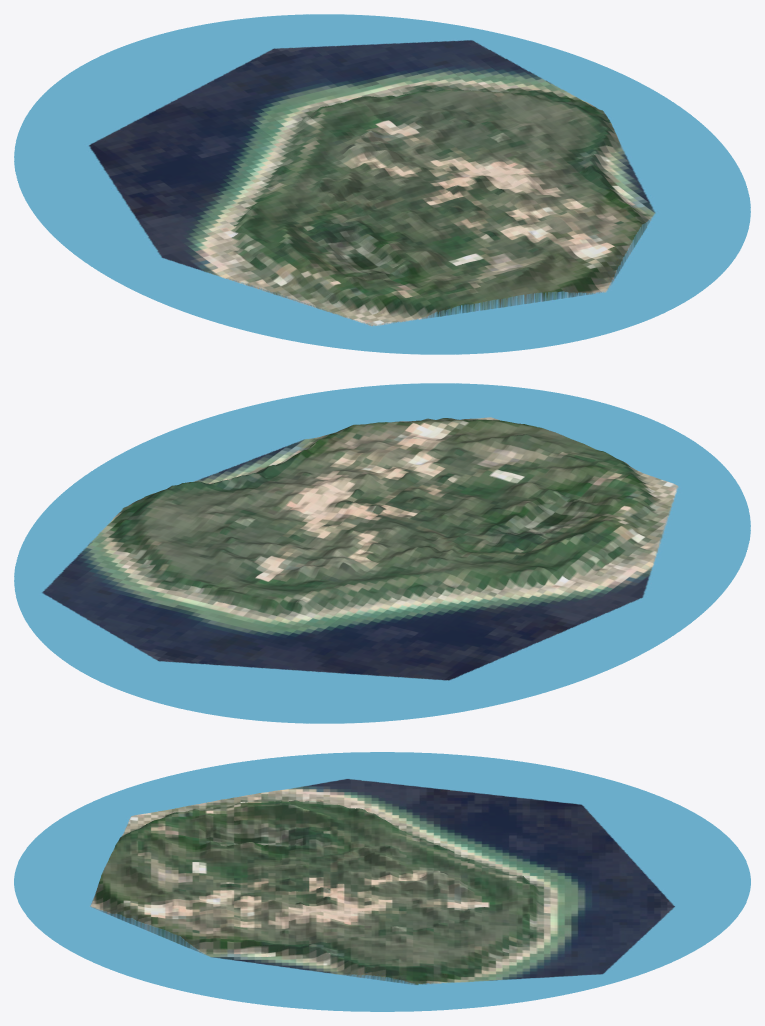
File: NRU-previa-terrain.glb
3 renders of one model, top to bottom at view 1: azimuth 30°, elevation 25°; view 2: azimuth 150°, elevation 25°; view 3: azimuth 270°, elevation 25°, orthographic. The views are drawn at different scales.
Visible parts, largest first — view 1: Nauru; view 2: Nauru; view 3: Nauru.
Boxes of the visible parts, bbox=[...] form: Nauru: bbox=[14, 14, 750, 354]; Nauru: bbox=[14, 383, 750, 723]; Nauru: bbox=[14, 752, 750, 1011].
Bounding box in the file's own units: 1.85 × 0.0477 × 2.22.
1 material, 1 textured.
